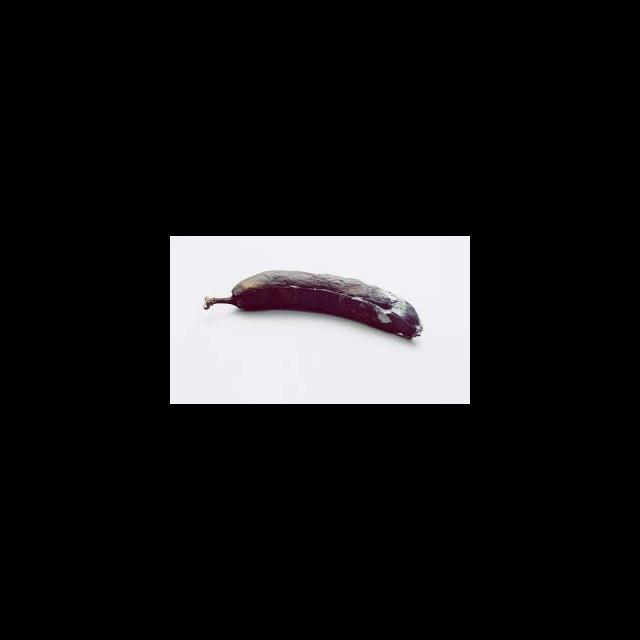food_waste: (196, 267, 438, 360)
